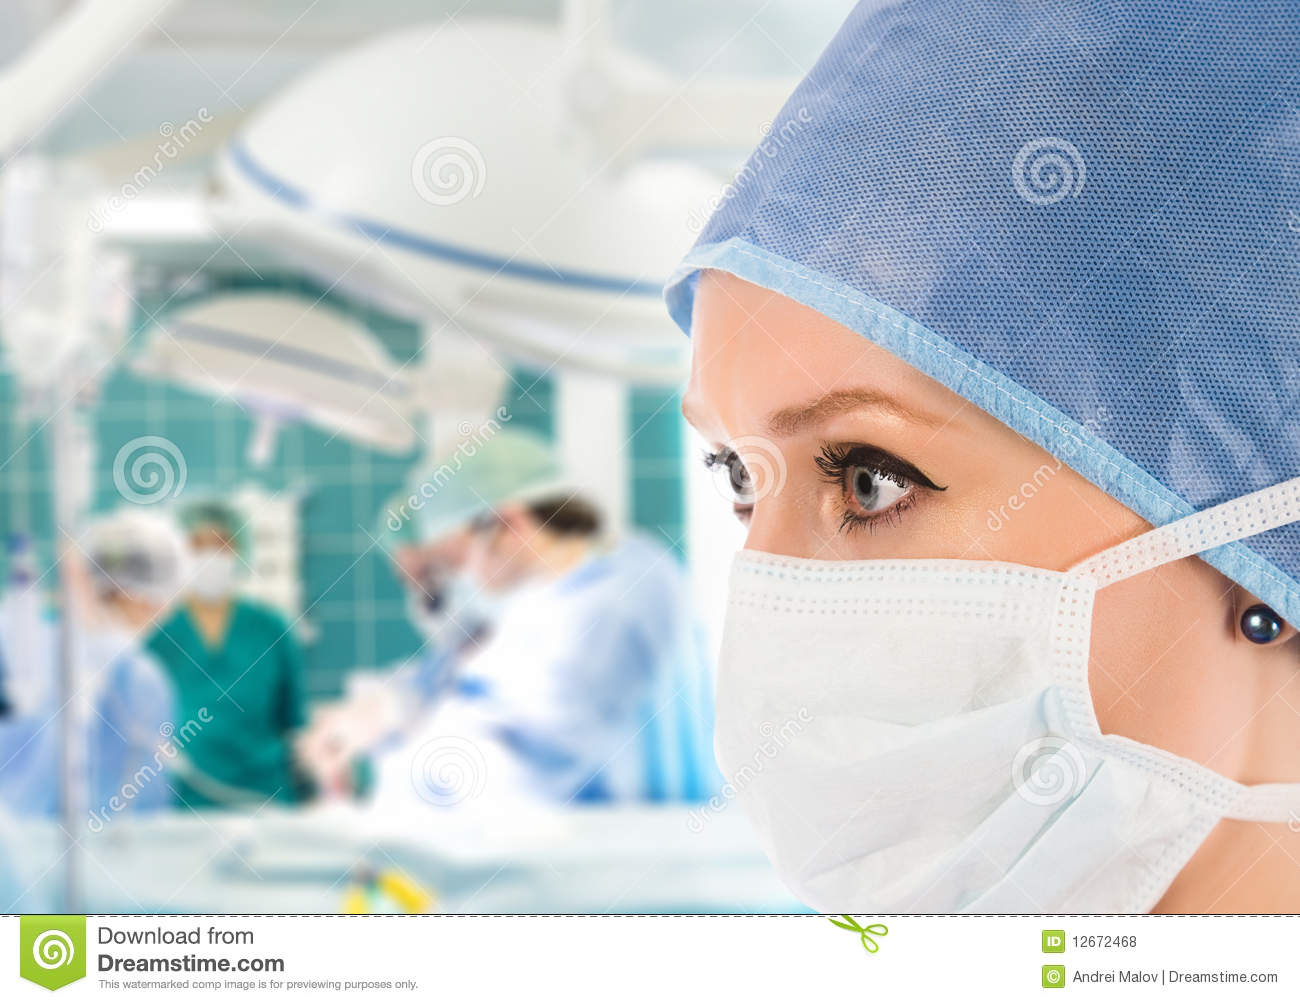mask: (687, 528, 1235, 888)
